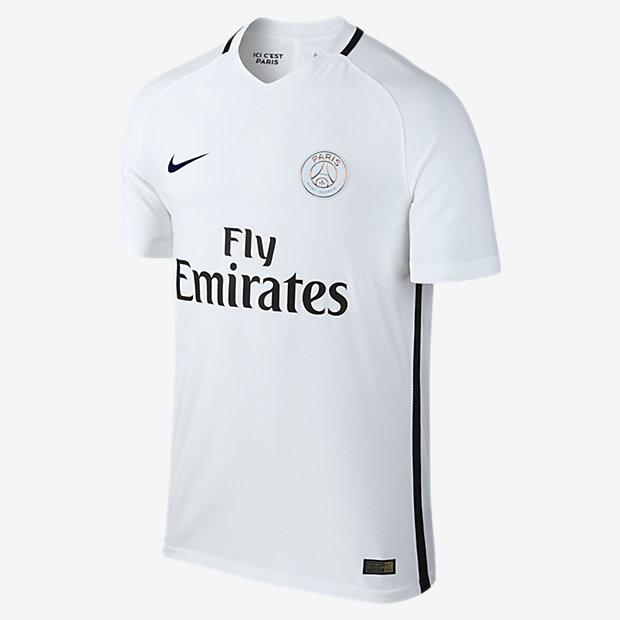teeshirt: (86, 3, 543, 619)
